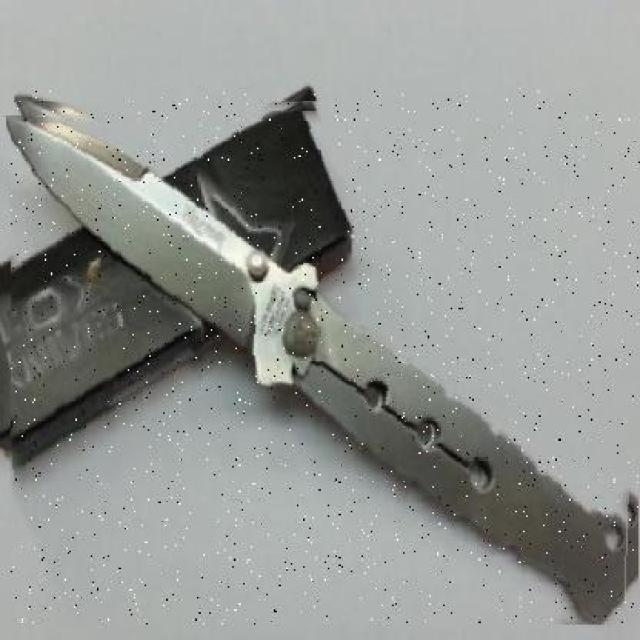knife: (11, 90, 640, 624)
